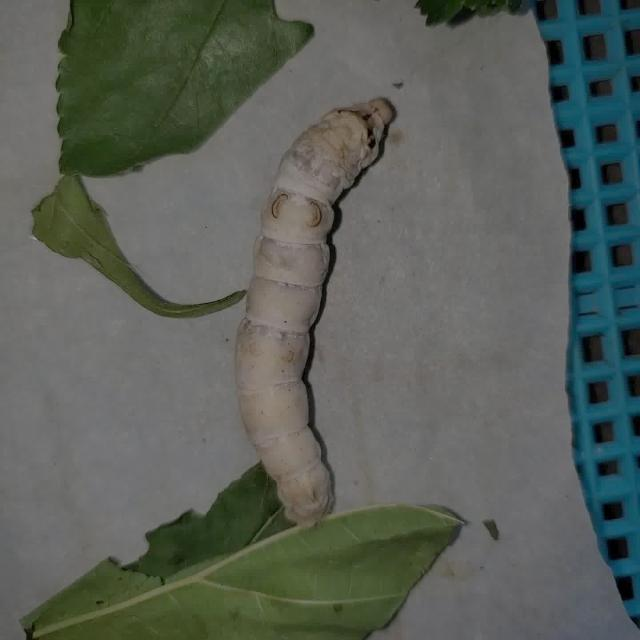Grasserie: (221, 64, 459, 538)
